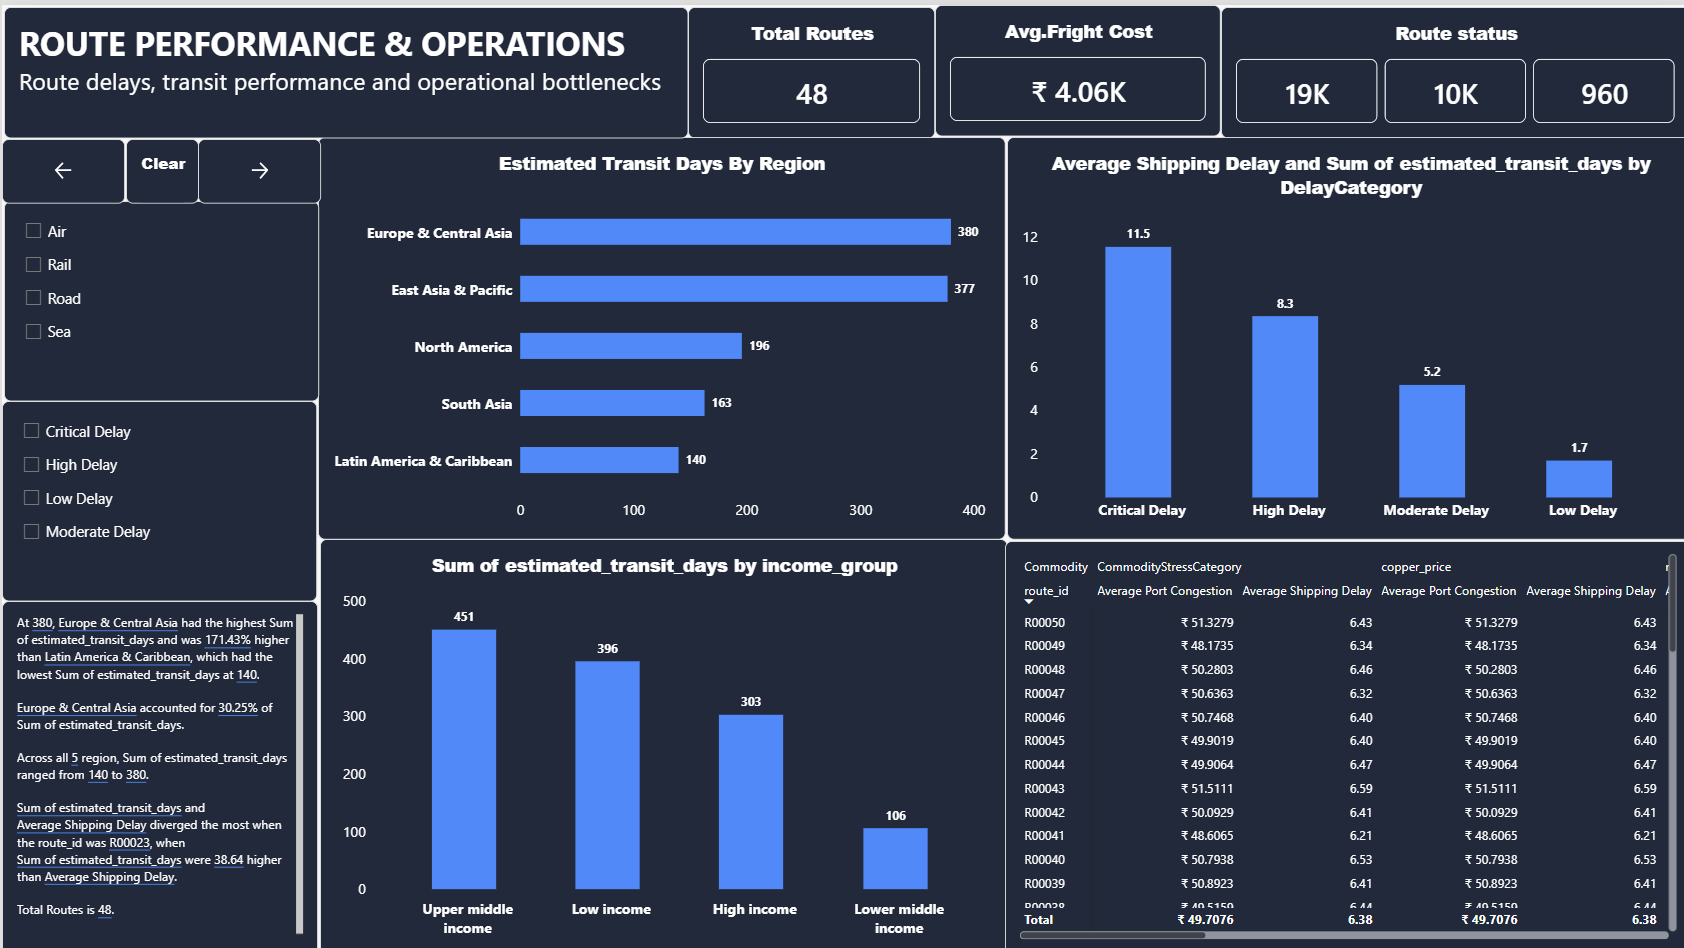

The page's visual inventory and layout, read from the dashboard file:
{"tool":"powerbi","page":{"name":"Route Performance & Operations","canvas":[1920,1080],"ordinal":1},"visuals":[{"type":"cardVisual","title":"Total Routes ","fields":{"Data":["_Measures.Total Routes"]},"box":[780.8,2.4,280,149.5],"z":0},{"type":"cardVisual","title":"Avg.Fright Cost","fields":{"Data":["_Measures.Average Freight Cost"]},"box":[1060.9,0,325.1,149.5],"z":1000},{"type":"cardVisual","title":"Route status","fields":{"Data":["_Measures.Delayed Records","_Measures.Normal Records","_Measures.Disrupted Records"]},"box":[1386,2.4,534,149.5],"z":2000},{"type":"clusteredBarChart","title":"Estimated Transit Days By Region","fields":{"Category":["dim_origin_country.region"],"Y":["Sum(dim_trade_route.estimated_transit_days)"]},"box":[358.4,149.5,780.8,458],"z":3000},{"type":"clusteredColumnChart","fields":{"Category":["fact_route_operation.DelayCategory"],"Y":["_Measures.Average Shipping Delay"]},"box":[1141.6,149.5,780.8,458],"z":4000},{"type":"lineStackedColumnComboChart","fields":{"Category":["dim_origin_country.income_group"],"Y":["Sum(dim_trade_route.estimated_transit_days)"]},"box":[360.7,607.6,780.8,472.3],"z":5000},{"type":"pivotTable","fields":{"Columns":["fact_commodity_market_long.Commodity"],"Rows":["dim_trade_route.route_id"],"Values":["_Measures.Average Port Congestion","_Measures.Average Shipping Delay"]},"box":[1139.2,609.9,780.8,469.9],"z":6000},{"type":"textbox","box":[0,677.9,359.4,404.9],"z":7000},{"type":"slicer","fields":{"Values":["fact_route_operation.DelayCategory"]},"box":[0,450.9,358.4,227.8],"z":8000},{"type":"slicer","fields":{"Values":["dim_trade_route.shipping_method"]},"box":[2.4,223.1,358.4,227.8],"z":9000},{"type":"actionButton","box":[223.1,151.9,140,73.6],"z":10000},{"type":"actionButton","box":[0,151.9,140,73.6],"z":11000},{"type":"actionButton","title":"Clear","box":[140,151.9,83.1,73.6],"z":12000},{"type":"textbox","box":[2.4,2.4,778.4,149.5],"z":13000}]}

Visuals, with their boxes in screenshot pixels (x1, y1, x2, y2), scaled from the page's 1920x1080 canvas onto the 1684x948 screenshot:
"Total Routes " cardVisual: locate(685, 2, 930, 133)
"Avg.Fright Cost" cardVisual: locate(930, 0, 1216, 131)
"Route status" cardVisual: locate(1216, 2, 1683, 133)
"Estimated Transit Days By Region" clusteredBarChart: locate(314, 131, 999, 533)
clusteredColumnChart - fact_route_operation.DelayCategory x _Measures.Average Shipping Delay: locate(1001, 131, 1683, 533)
lineStackedColumnComboChart - dim_origin_country.income_group x Sum(dim_trade_route.estimated_transit_days): locate(316, 533, 1001, 947)
pivotTable - fact_commodity_market_long.Commodity x dim_trade_route.route_id: locate(999, 535, 1683, 947)
textbox: locate(0, 595, 315, 947)
slicer - fact_route_operation.DelayCategory: locate(0, 396, 314, 596)
slicer - dim_trade_route.shipping_method: locate(2, 196, 316, 396)
actionButton: locate(196, 133, 318, 198)
actionButton: locate(0, 133, 123, 198)
"Clear" actionButton: locate(123, 133, 196, 198)
textbox: locate(2, 2, 685, 133)
